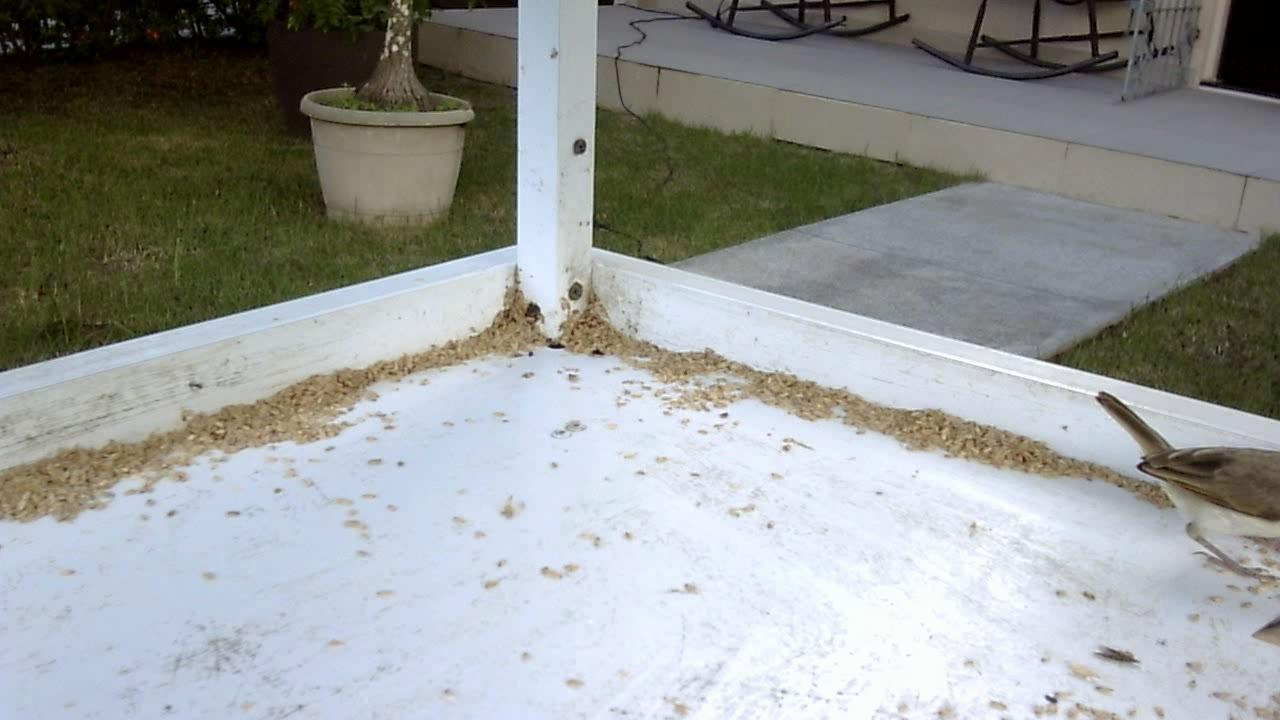canario_do_amazonas: (1078, 393, 1278, 601)
